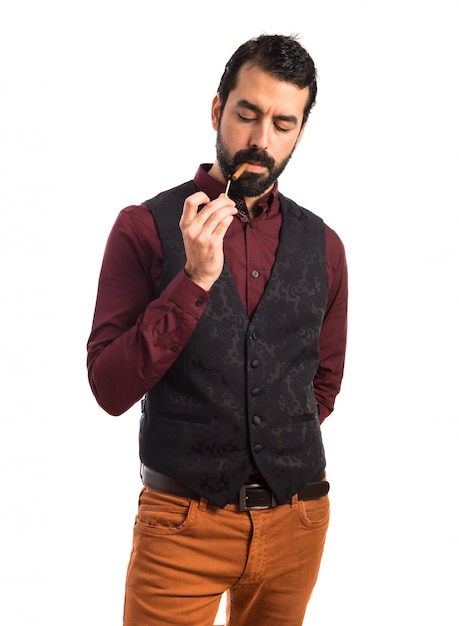cigarette: (232, 162, 249, 182)
